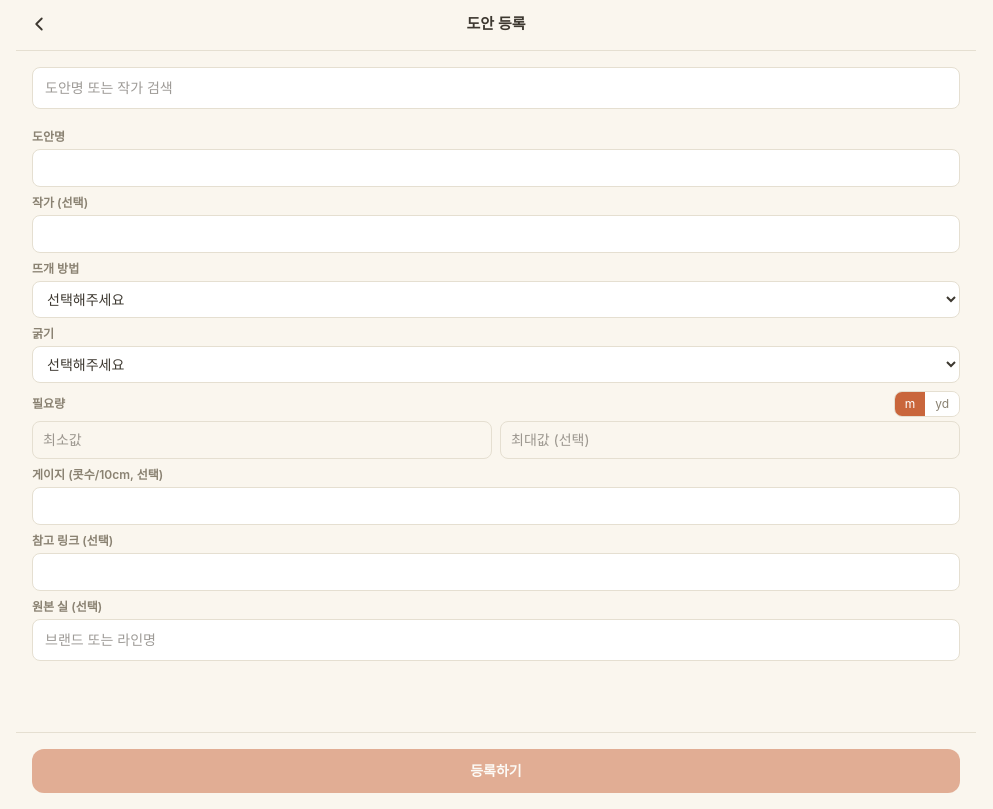
it: PatternRegisterPage › Ravelry 검색이 안 되면 검색 불가 안내를 띄운다
This screenshot has width=993, height=809.
Type "flax" into the field with placeholder "도안명 또는 작가 검색".
click(496, 88); type("flax")  # box [32,66,960,108]
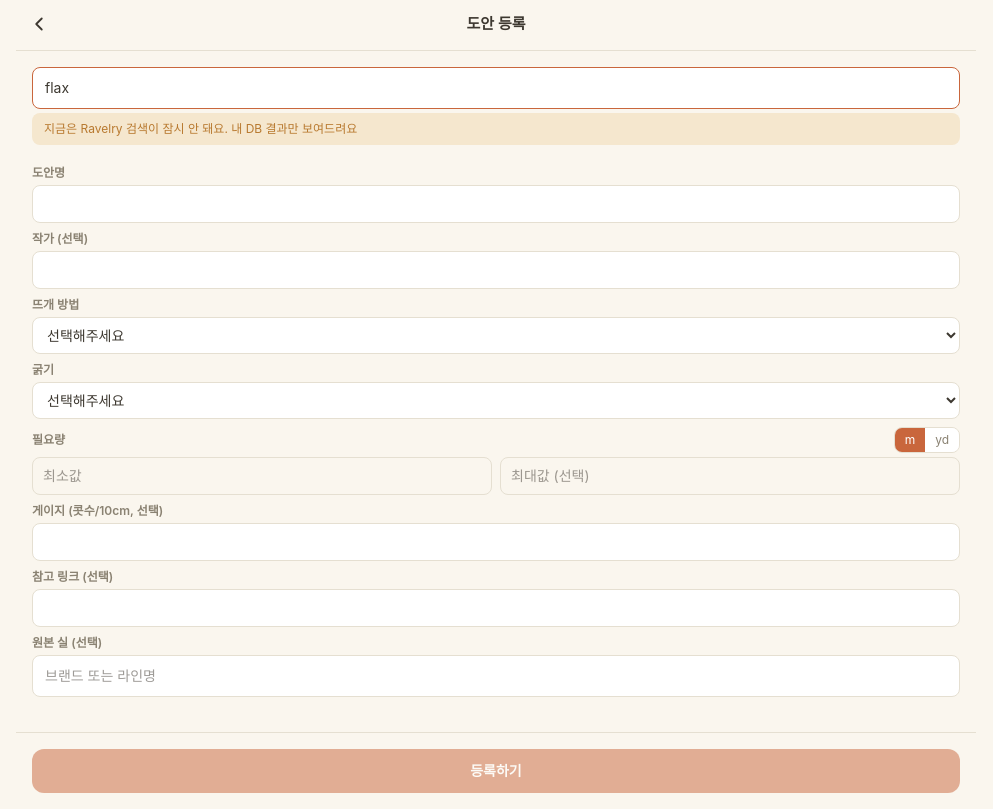
Expected: the text "지금은 Ravelry 검색이 잠시 안 돼요. 내 DB 결과만 보여드려요" is shown, [32,112,960,144]
